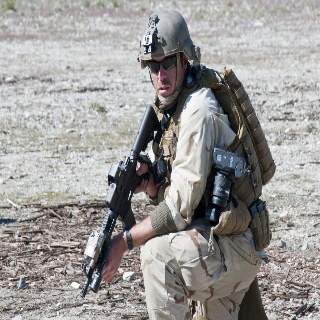rifle: (78, 103, 164, 300)
